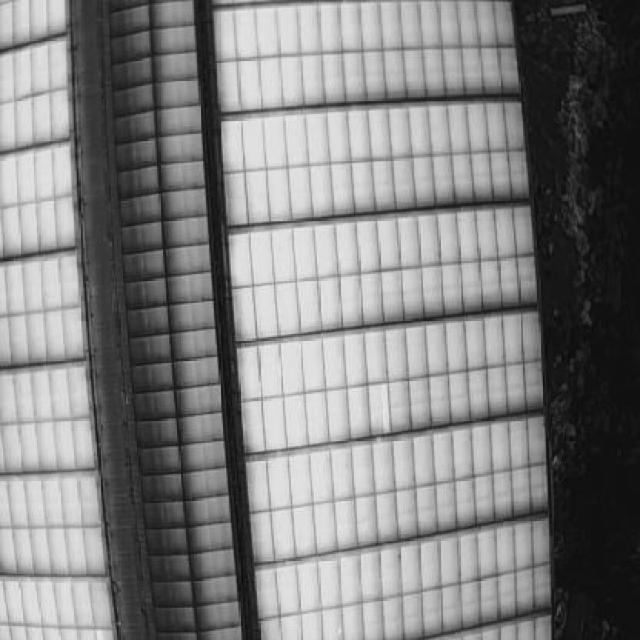diode: (379, 380, 390, 434)
